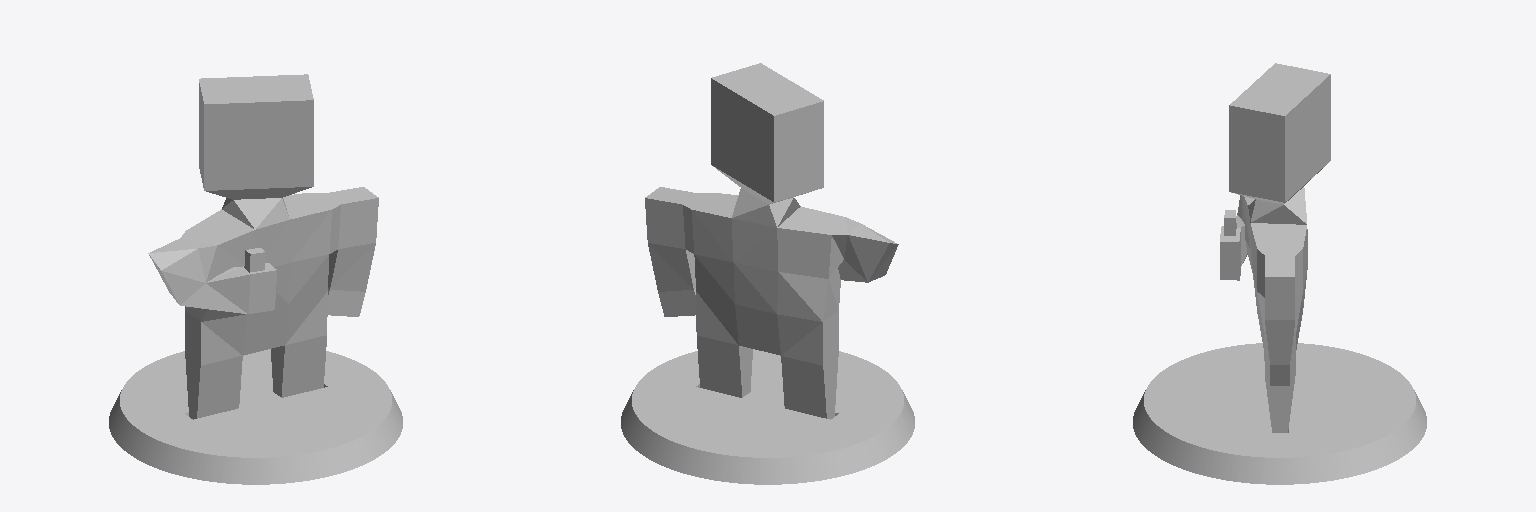
Rendered from kBert_thumbsup.obj.
3 views of the same model, side by side, from view 1: azimuth 30°, elevation 25°; view 2: azimuth 150°, elevation 25°; view 3: azimuth 270°, elevation 25° (orthographic).
Parts seen in each view (by area): view 1: kBert_Cube, Cylinder_Cylinder.001; view 2: kBert_Cube, Cylinder_Cylinder.001; view 3: Cylinder_Cylinder.001, kBert_Cube.
Boxes of the visible parts, box(x1,y1,x2,y2) form: kBert_Cube: box(148, 74, 378, 419); Cylinder_Cylinder.001: box(109, 349, 402, 484); kBert_Cube: box(645, 63, 898, 419); Cylinder_Cylinder.001: box(621, 349, 914, 484); Cylinder_Cylinder.001: box(1133, 343, 1426, 484); kBert_Cube: box(1220, 63, 1330, 432).
Bounding box in the file's own units: 4.1 × 5.1 × 4.1.